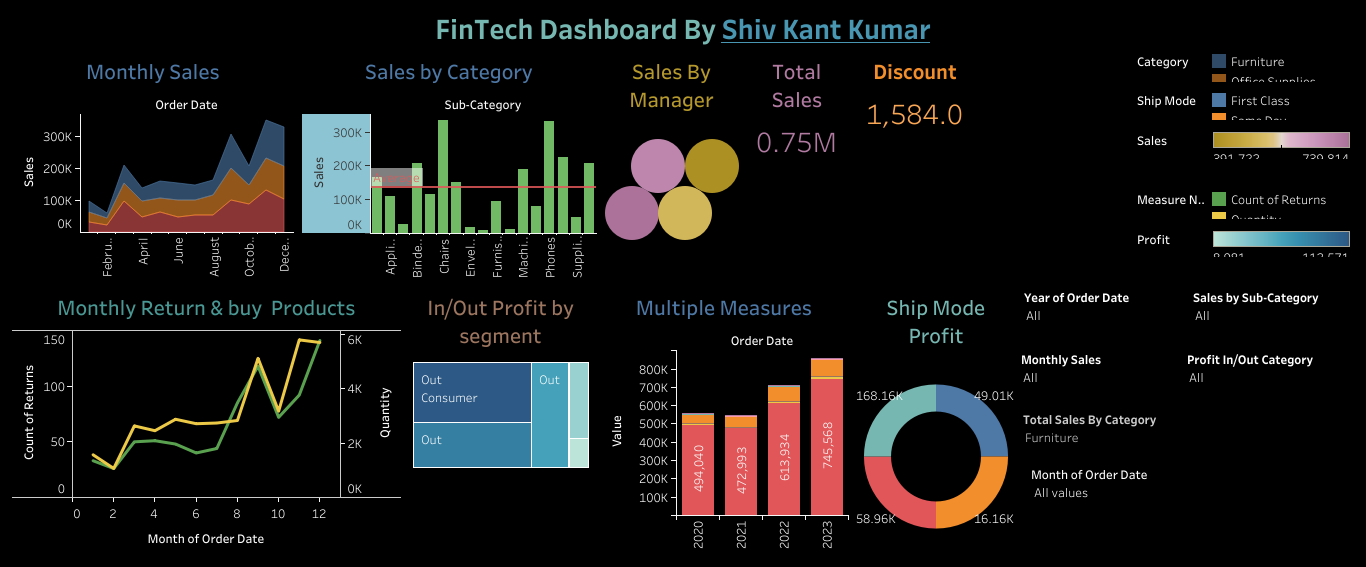

What the dashboard file says about the page in this screenshot:
{"tool":"tableau","page":{"name":"Dashboard 1","canvas":[1000,1000],"units":"permille","ordinal":0},"visuals":[{"type":"text","box":[7,16.3,986,69.2]},{"type":"worksheet","title":"Monthly Sales","mark":"Area","rows":["Sales"],"cols":["Order Date"],"box":[7,85.5,253.7,414.5]},{"type":"worksheet","title":"sales by category","mark":"Automatic","rows":["Sales"],"cols":["Sub-Category"],"box":[260.7,85.5,264.2,414.5]},{"type":"worksheet","title":"sales by manger","mark":"Circle","box":[524.9,85.5,125.1,414.5]},{"type":"worksheet","title":"Total sales","mark":"Automatic","box":[650.1,85.5,89.2,414.5]},{"type":"worksheet","title":"discount","mark":"Automatic","box":[739.3,85.5,89.2,414.5]},{"type":"legend","title":"Monthly Sales","param":"[sqlproxy.0d3drcu0h980bg185w6en0eep1up].[none:Category:nk]","box":[828.5,85.5,164.5,65]},{"type":"legend","title":"ship mode profit","param":"[sqlproxy.0d3drcu0h980bg185w6en0eep1up].[none:Ship Mode:nk]","box":[828.5,150.5,164.5,65]},{"type":"legend","title":"sales by manger","param":"[sqlproxy.0d3drcu0h980bg185w6en0eep1up].[sum:Sales:qk]","box":[828.5,215.5,164.5,65]},{"type":"legend","title":"sales by manger","param":"[sqlproxy.0d3drcu0h980bg185w6en0eep1up].[__tableau_internal_object_id__].[cnt:Pe","box":[828.5,280.4,164.5,44.8]},{"type":"legend","title":"Monthly Return & buy  Products","param":"[sqlproxy.0d3drcu0h980bg185w6en0eep1up].[:Measure Names]","box":[828.5,325.2,164.5,65]},{"type":"legend","title":"in/outprofit","param":"[sqlproxy.0d3drcu0h980bg185w6en0eep1up].[sum:Profit:qk]","box":[828.5,390.2,164.5,65]},{"type":"legend","title":"in/outprofit","param":"[sqlproxy.0d3drcu0h980bg185w6en0eep1up].[sum:Profit:qk]","box":[828.5,455.2,164.5,44.8]},{"type":"worksheet","title":"Monthly Return & buy  Products","mark":"Line","rows":["Returns_2AA0FE4D737A4F63970131D0E7480A03","Quantity"],"cols":["Order Date"],"box":[7,500,290.3,483.7]},{"type":"worksheet","title":"in/outprofit","mark":"Automatic","box":[297.3,500,139.1,483.7]},{"type":"worksheet","title":"Multiple Measures","mark":"Bar","cols":["Order Date"],"box":[436.4,500,186.7,483.7]},{"type":"worksheet","title":"ship mode profit","mark":"Pie","rows":["Calculation_1055584947240963","Calculation_1055584947240963"],"box":[623.1,500,123.3,483.7]},{"type":"filter","title":"Multiple Measures","param":"[sqlproxy.0d3drcu0h980bg185w6en0eep1up].[yr:Order Date:ok]","box":[746.4,500,123.1,483.7]},{"type":"filter","title":"sales by category","param":"[sqlproxy.0d3drcu0h980bg185w6en0eep1up].[none:Sub-Category:nk]","box":[869.5,500,123.5,483.7]},{"type":"filter","title":"Monthly Sales","param":"[sqlproxy.0d3drcu0h980bg185w6en0eep1up].[none:Category:nk]","box":[747.2,615.1,118.1,230.1]},{"type":"filter","title":"in/outprofit","param":"[sqlproxy.0d3drcu0h980bg185w6en0eep1up].[none:Category:nk]","box":[868.8,615.1,119.9,124.2]},{"type":"filter","title":"Total sales","param":"[sqlproxy.0d3drcu0h980bg185w6en0eep1up].[none:Category:nk]","box":[748.9,721,117.2,93.7]},{"type":"filter","title":"Monthly Return & buy  Products","param":"[sqlproxy.0d3drcu0h980bg185w6en0eep1up].[mn:Order Date:qk]","box":[755,818.7,106.7,126.3]}]}

Visuals, with their boxes on the dashboard's canvas, which has no fixed pixel size, in thousandths of its width and height (x1, y1, x2, y2). These are canvas units, not pixel positions in the 1366x567 screenshot, which may show the page scaled, cropped or inside an application window:
text: <region>7, 16, 993, 86</region>
"Monthly Sales" worksheet (Area marks): <region>7, 86, 261, 500</region>
"sales by category" worksheet: <region>261, 86, 525, 500</region>
"sales by manger" worksheet (Circle marks): <region>525, 86, 650, 500</region>
"Total sales" worksheet: <region>650, 86, 739, 500</region>
"discount" worksheet: <region>739, 86, 828, 500</region>
"Monthly Sales" legend: <region>828, 86, 993, 150</region>
"ship mode profit" legend: <region>828, 150, 993, 216</region>
"sales by manger" legend: <region>828, 216, 993, 280</region>
"sales by manger" legend: <region>828, 280, 993, 325</region>
"Monthly Return & buy  Products" legend: <region>828, 325, 993, 390</region>
"in/outprofit" legend: <region>828, 390, 993, 455</region>
"in/outprofit" legend: <region>828, 455, 993, 500</region>
"Monthly Return & buy  Products" worksheet (Line marks): <region>7, 500, 297, 984</region>
"in/outprofit" worksheet: <region>297, 500, 436, 984</region>
"Multiple Measures" worksheet (Bar marks): <region>436, 500, 623, 984</region>
"ship mode profit" worksheet (Pie marks): <region>623, 500, 746, 984</region>
"Multiple Measures" filter: <region>746, 500, 870, 984</region>
"sales by category" filter: <region>870, 500, 993, 984</region>
"Monthly Sales" filter: <region>747, 615, 865, 845</region>
"in/outprofit" filter: <region>869, 615, 989, 739</region>
"Total sales" filter: <region>749, 721, 866, 815</region>
"Monthly Return & buy  Products" filter: <region>755, 819, 862, 945</region>
